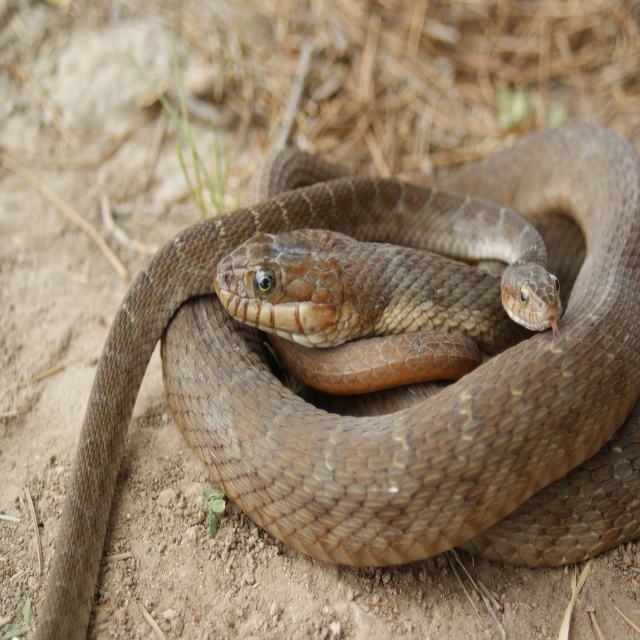Snake: (29, 149, 640, 637)
